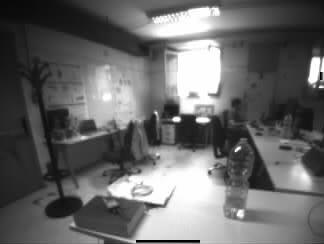Bottle: (224, 137, 252, 219)
